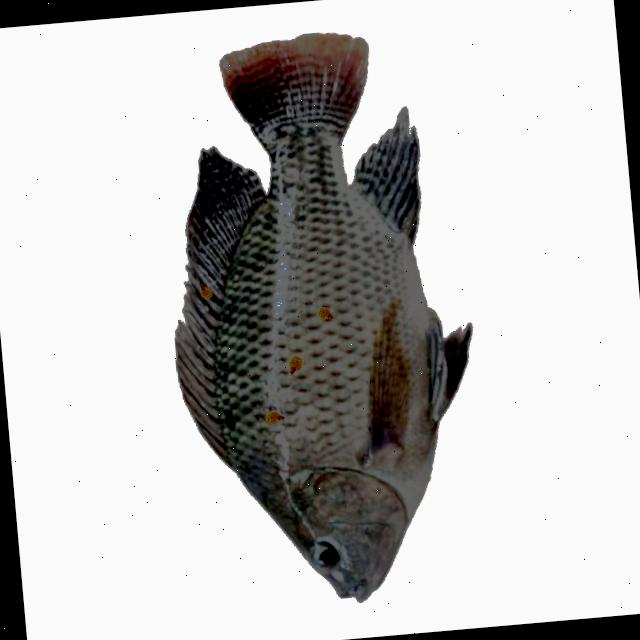Parasitic Disease: (176, 34, 471, 599)
